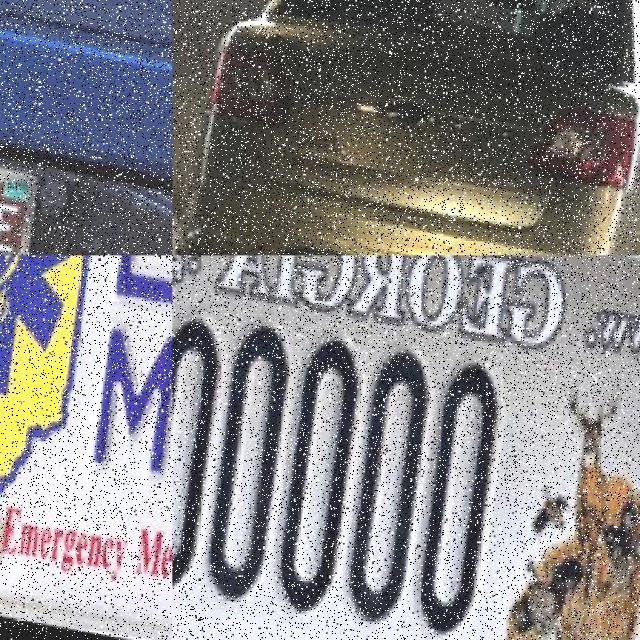licenseplate: (172, 283, 523, 640), (66, 256, 172, 562)
